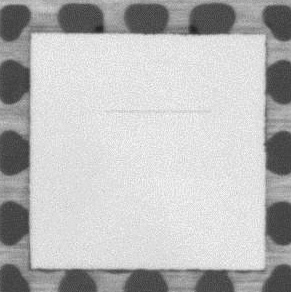DIE_CRACK: (105, 108, 212, 116)
